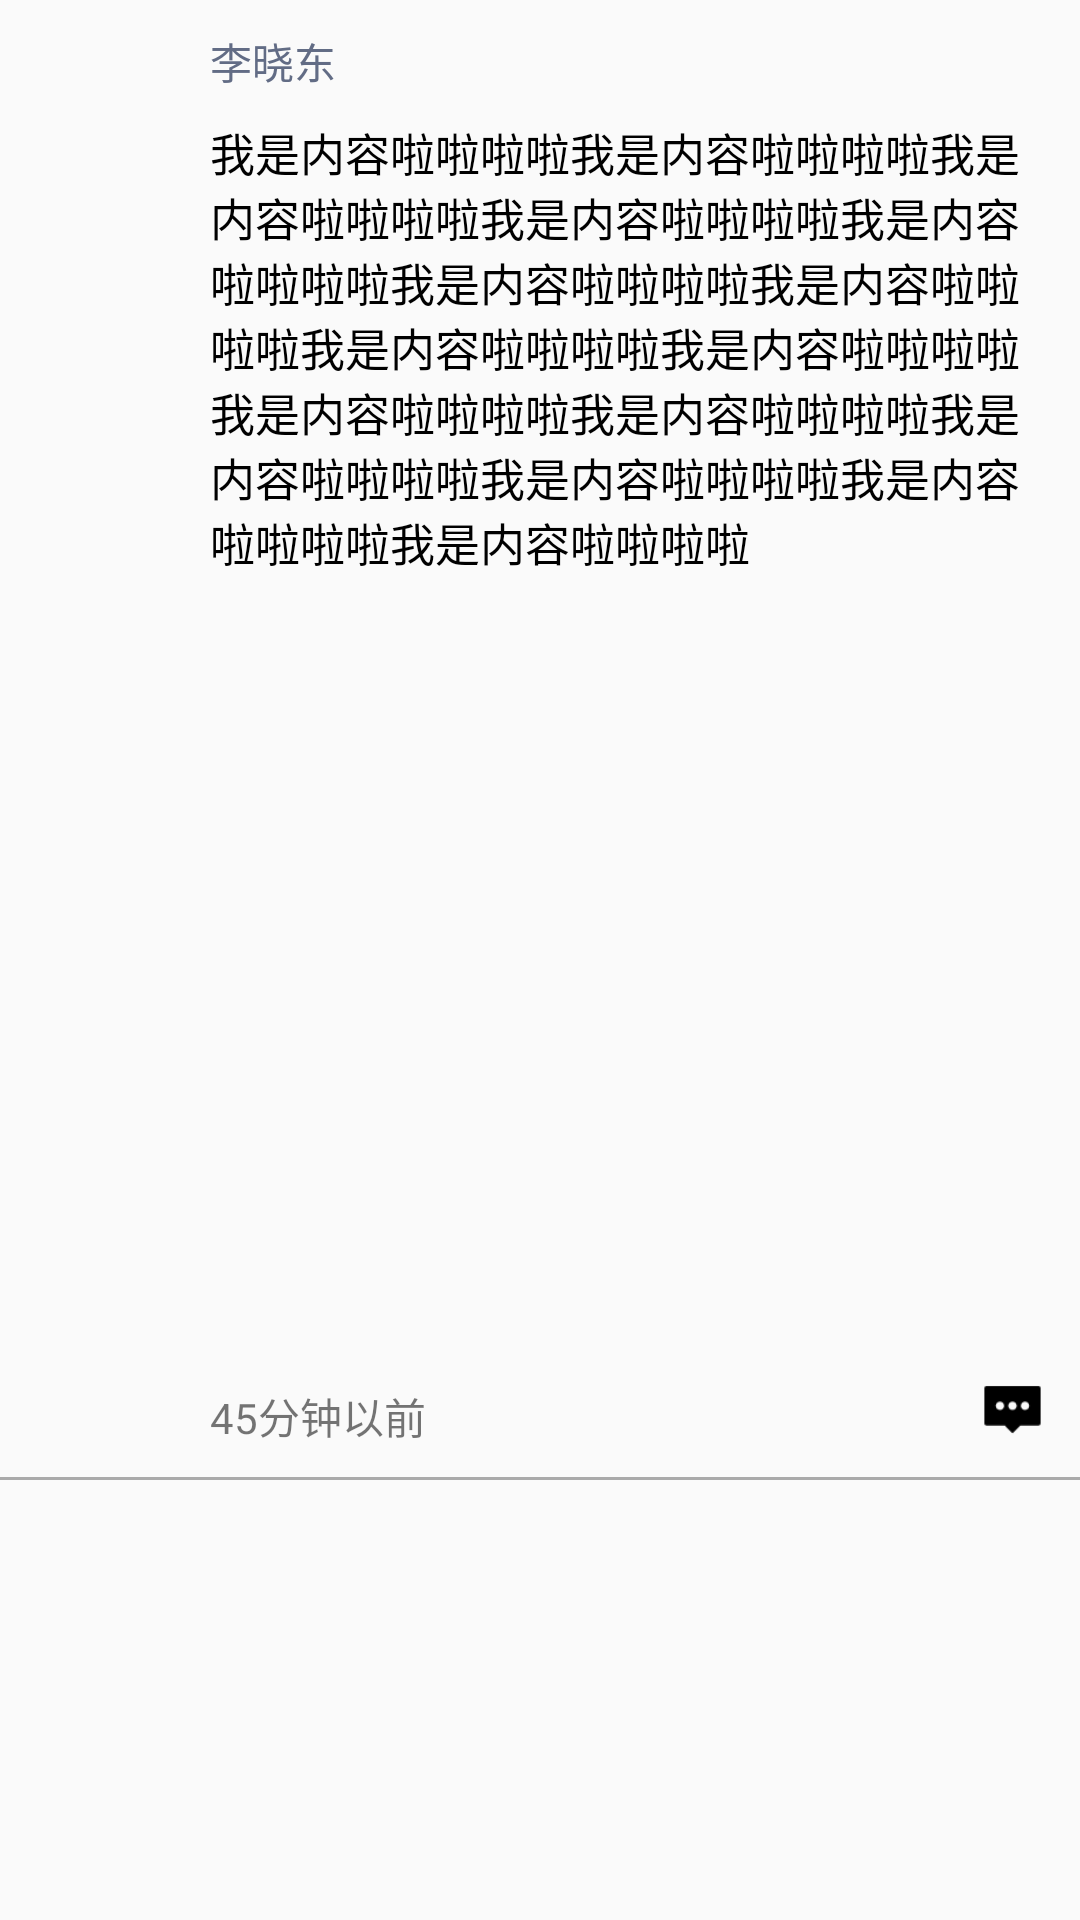

Screen size 1080×1920. Icon name, then its center in pixels as [x,y]:
comment: [1012,1409]
